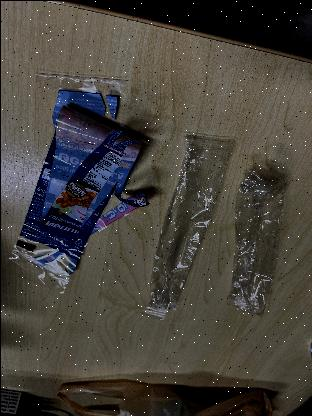Others: (9, 63, 147, 296), (136, 122, 230, 318), (226, 162, 288, 314)
